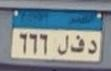6: (29, 32, 38, 57), (39, 32, 48, 56), (19, 32, 27, 55)
daal: (87, 39, 98, 56)
faa: (70, 34, 85, 55)
laam: (57, 32, 69, 58)
